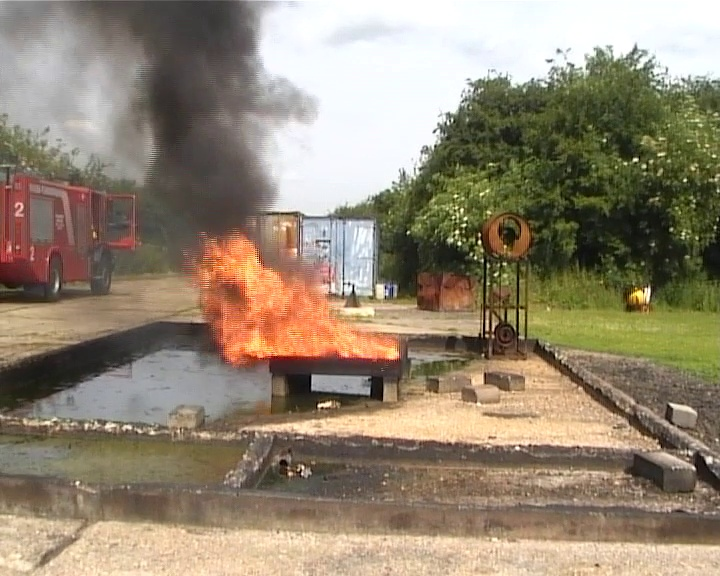fire: (202, 237, 394, 358)
